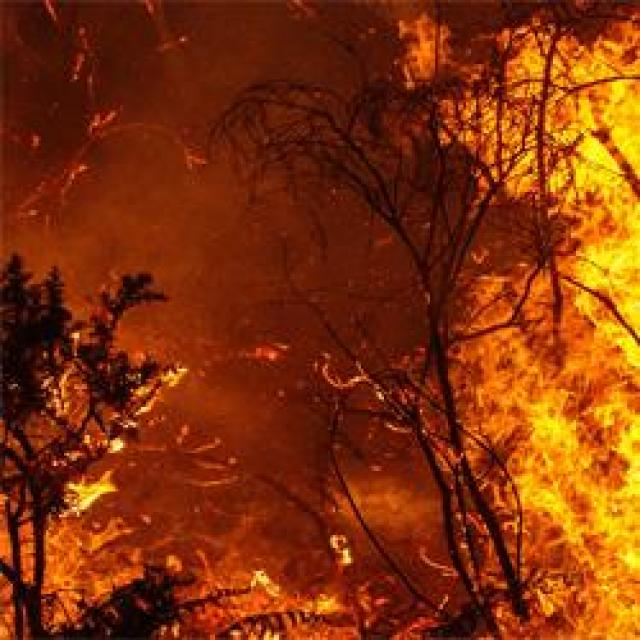fire: (385, 5, 640, 639), (62, 464, 133, 514)
